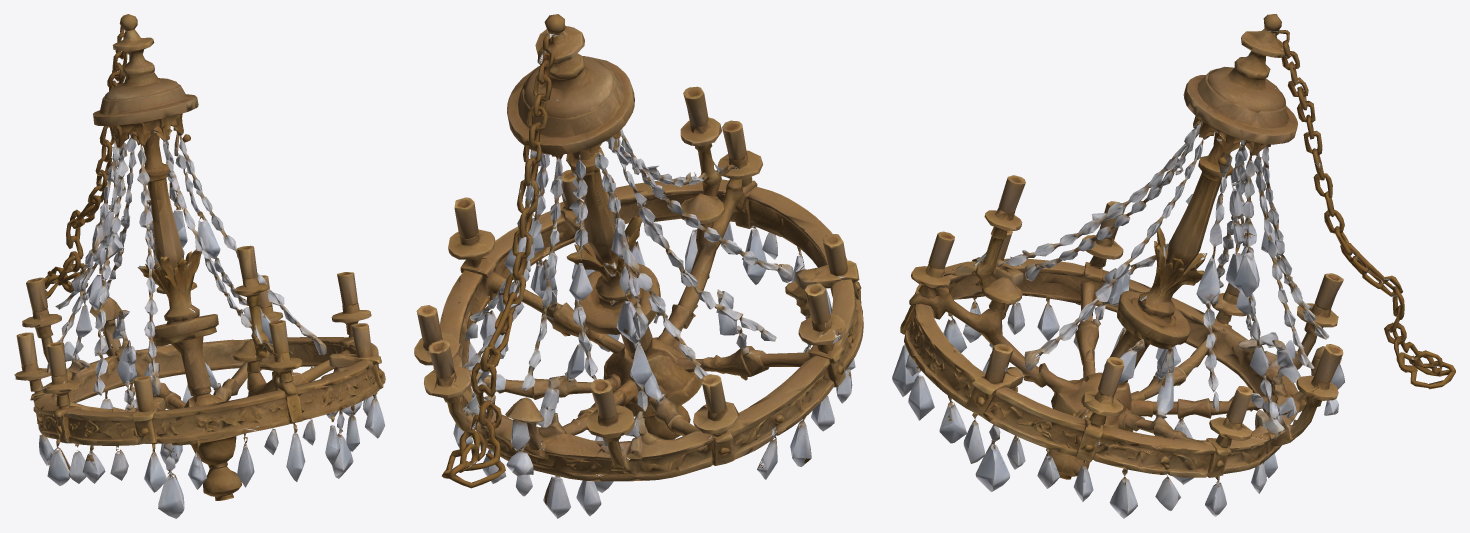
Rendered from chandelier-on-rubble.glb.
3 renders of one model, left to right at view 1: azimuth 30°, elevation 25°; view 2: azimuth 150°, elevation 25°; view 3: azimuth 270°, elevation 25°, orthographic. The views are drawn at different scales.
Visible parts, largest first — view 1: SM_ChandelierOnRubble; view 2: SM_ChandelierOnRubble; view 3: SM_ChandelierOnRubble.
Boxes of the visible parts, left/top/right/bottom form: SM_ChandelierOnRubble: left=14, top=14, right=385, bottom=518; SM_ChandelierOnRubble: left=414, top=14, right=863, bottom=518; SM_ChandelierOnRubble: left=892, top=14, right=1455, bottom=518.
Bounding box in the file's own units: 1.39 × 1.74 × 1.9.
1 material, 1 textured.
